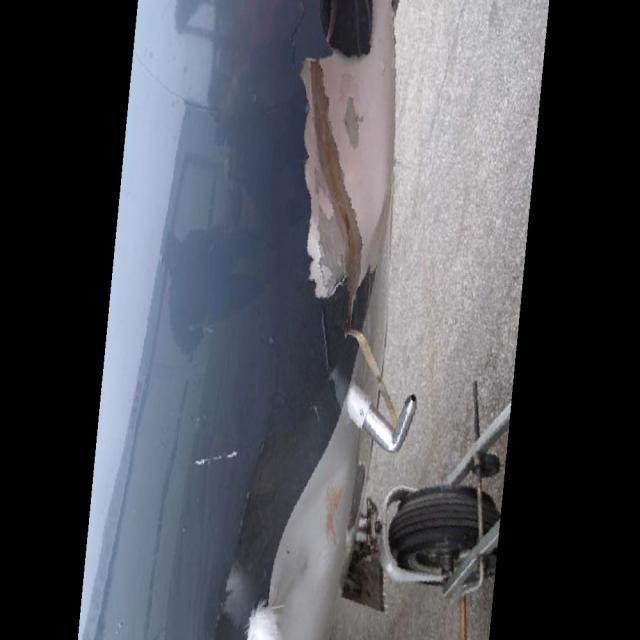crack: (287, 2, 310, 72)
dent: (278, 463, 352, 600), (338, 148, 390, 223)
